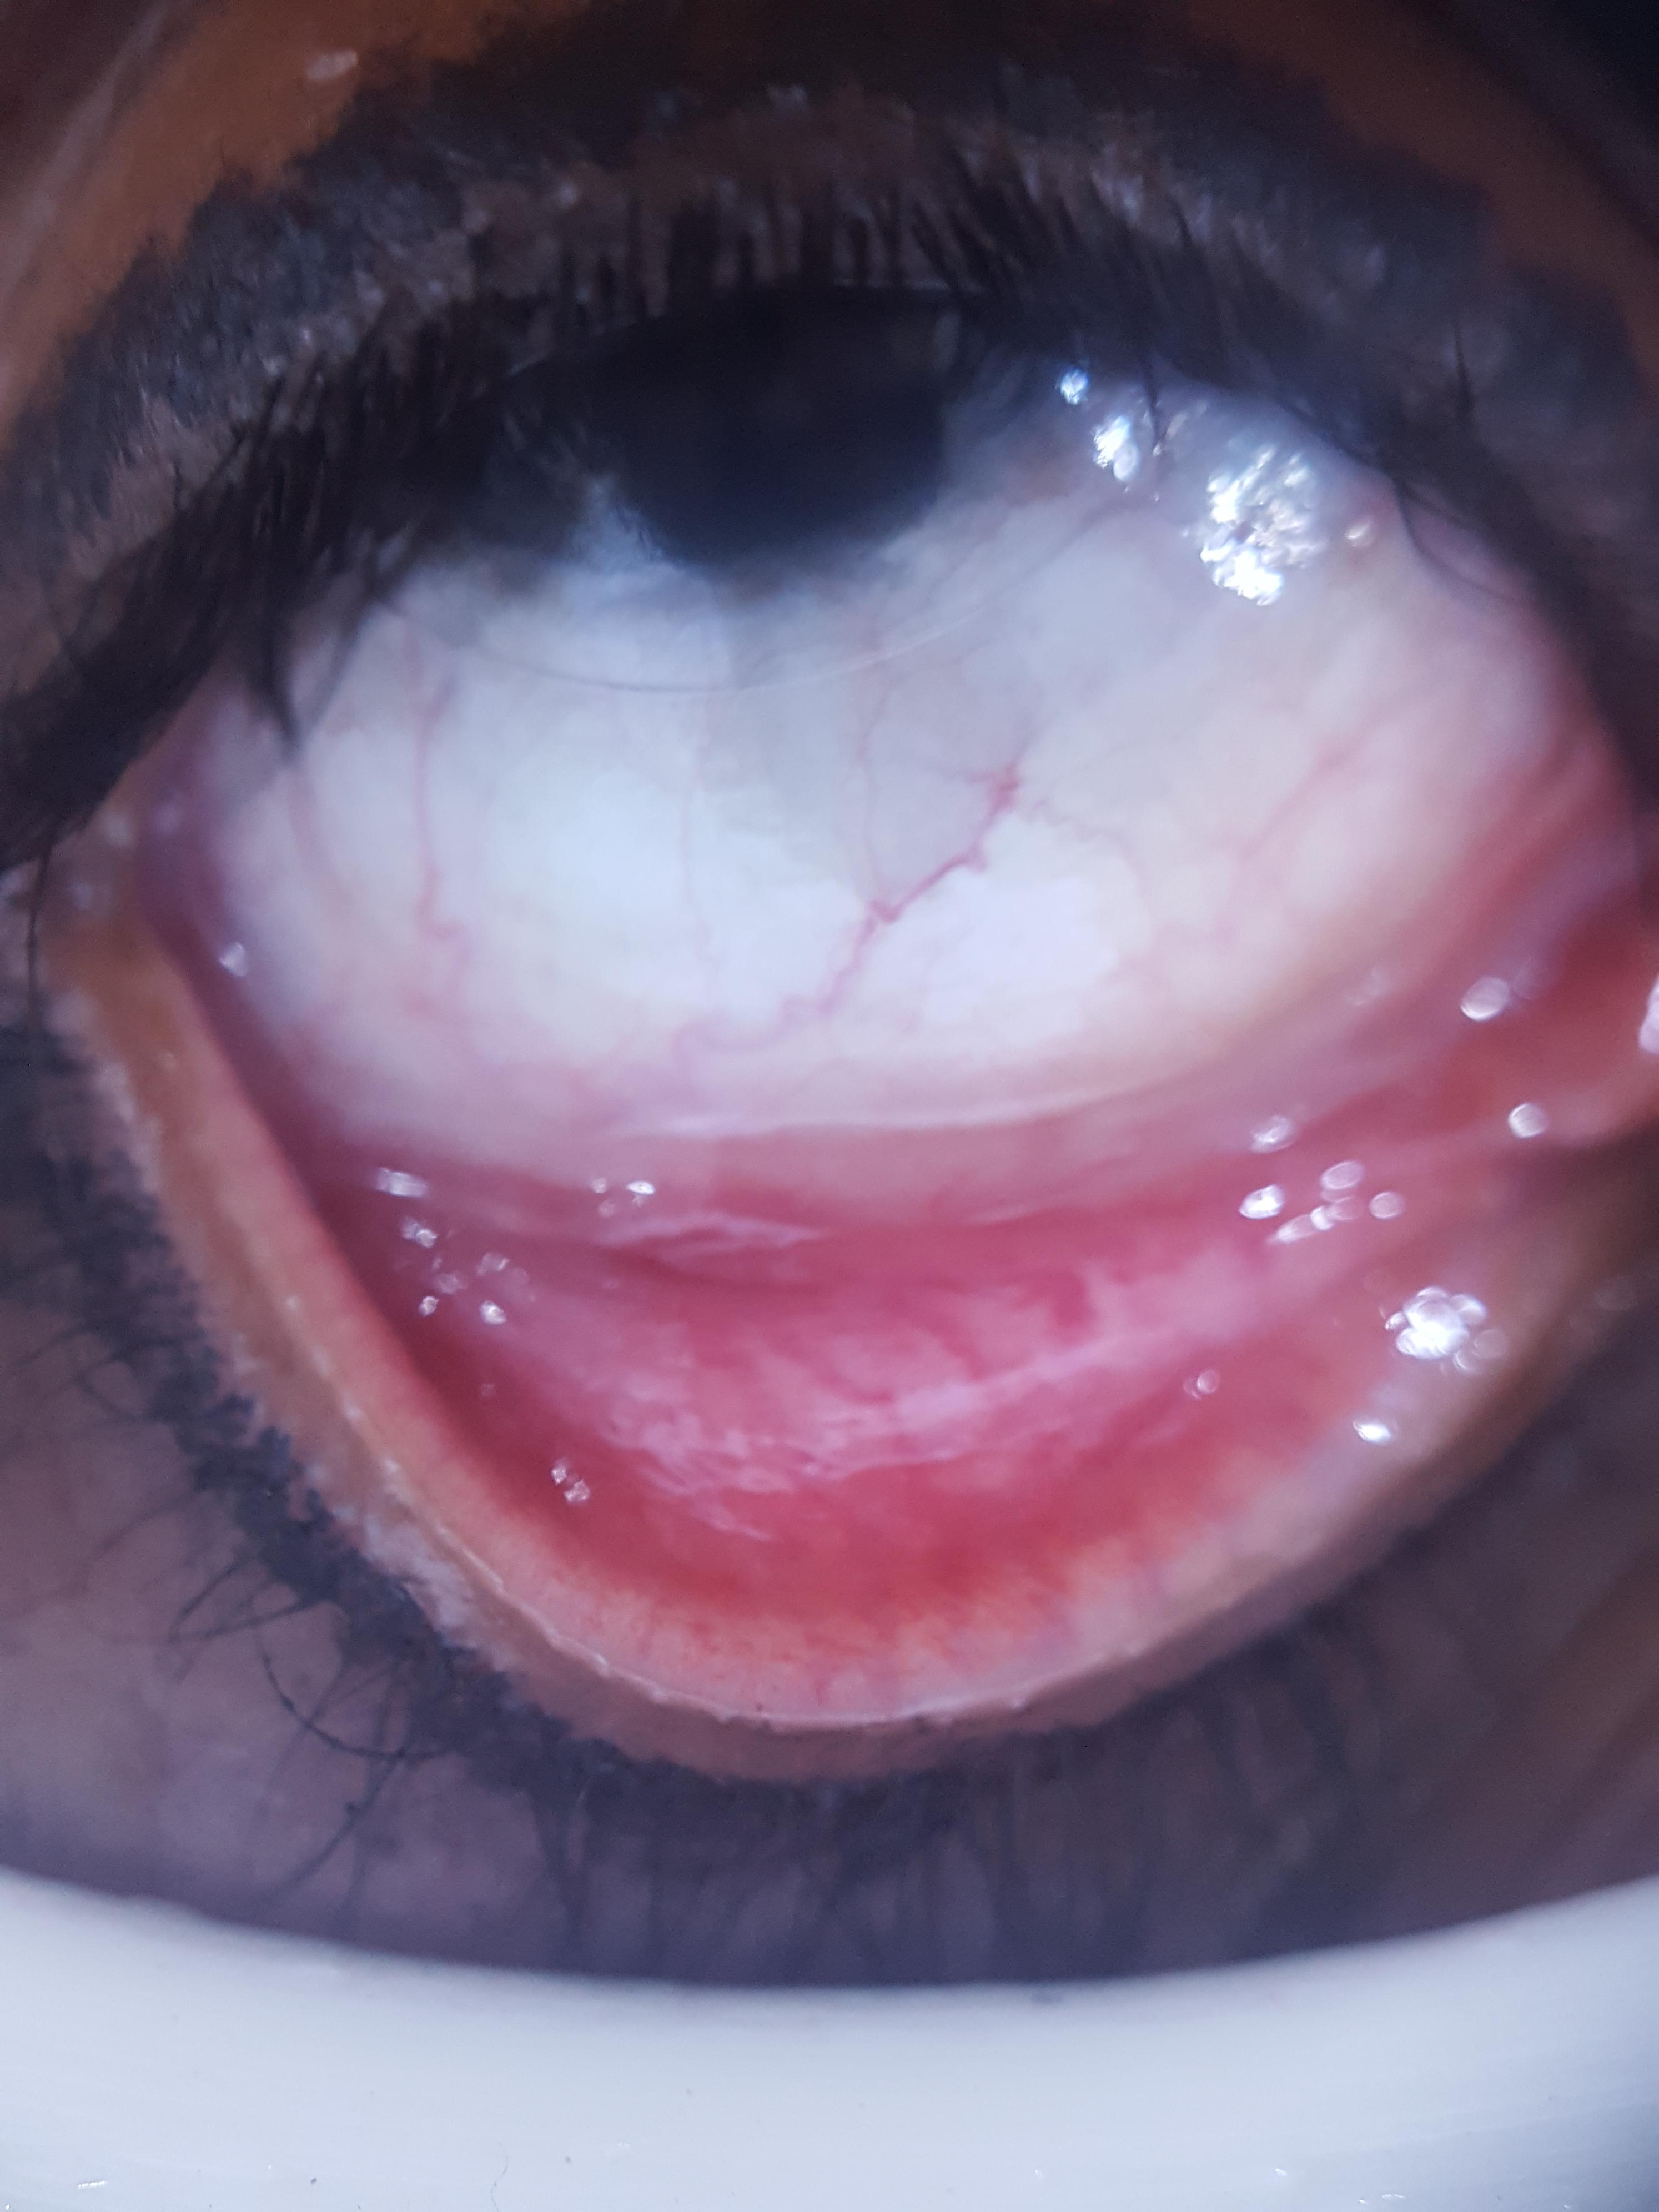forniceal: (355, 878, 1659, 1482)
forniceal_palpebral: (256, 869, 1659, 1684)
palpebral: (274, 1127, 1589, 1667)
